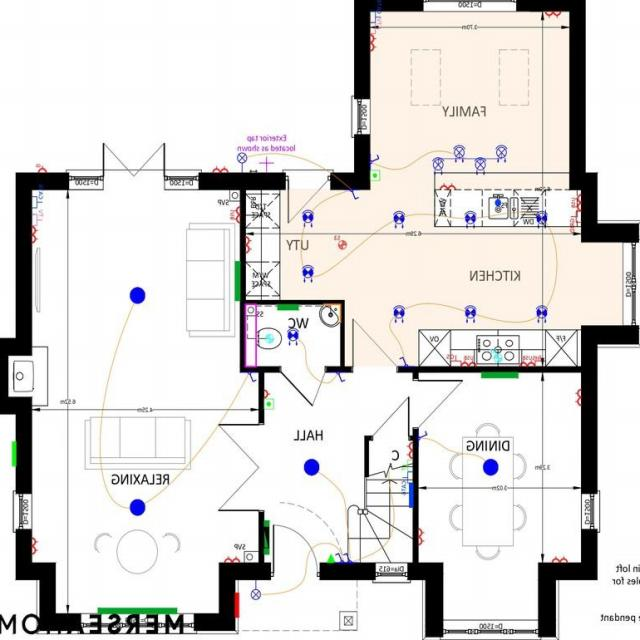BT Entry Point: (321, 548, 335, 562)
Cat 6 Data Socket: (28, 188, 53, 208), (368, 6, 388, 22), (398, 470, 412, 483)
Ceiling Mounted Continuous Extract Fan With Boost Mode Activated By Light Switch: (258, 325, 276, 354)
Ceiling Mounted Continuous Extract Fan With Local Boost Switch: (328, 233, 358, 254)
Co-Ax TV Socket: (28, 210, 48, 224), (368, 22, 388, 36)
Consumer Unit: (260, 522, 270, 552)
Double Socket: (562, 382, 580, 412), (545, 546, 576, 563), (204, 158, 235, 173), (217, 548, 245, 562), (244, 228, 255, 260), (366, 34, 382, 56), (434, 178, 460, 191), (30, 223, 41, 249), (540, 8, 567, 18), (30, 532, 40, 558), (400, 440, 413, 458), (416, 524, 424, 548)
Electric Meter Box: (232, 586, 244, 622)
External Wall Light: (235, 146, 251, 172), (250, 577, 265, 603)
Gas Meter Box: (5, 432, 14, 481)
Grid Switch: (564, 210, 580, 231)
Hob Switch: (533, 353, 542, 367)
Light Switch: (328, 368, 352, 385), (392, 352, 416, 367), (345, 186, 364, 203), (368, 150, 384, 169), (418, 427, 432, 445), (241, 372, 259, 384), (342, 545, 353, 564), (335, 549, 345, 563)
Low Energy Downlighter: (426, 142, 508, 174), (388, 200, 415, 234), (296, 259, 324, 290), (296, 203, 327, 230), (454, 296, 481, 326), (457, 206, 484, 235), (528, 299, 554, 327), (531, 207, 553, 237), (282, 322, 302, 350), (390, 300, 410, 326)
Low Energy Pendant Light: (298, 450, 330, 485), (479, 450, 501, 490), (124, 494, 156, 518), (124, 279, 150, 304)
Outside Socket: (32, 158, 51, 172)
Outside Tap: (257, 147, 276, 173)
Oven Switch: (445, 350, 462, 366), (461, 353, 479, 366)
Programmable Room Thermostat: (261, 396, 277, 414), (368, 169, 382, 186)
Radiator: (91, 601, 184, 613), (228, 255, 242, 308), (476, 368, 523, 382), (272, 300, 307, 314), (262, 518, 272, 563)
Recirculating Extractor Fan: (488, 347, 506, 362)
Single Socket: (261, 387, 278, 400)
Telephone Socket: (399, 456, 411, 472)
USB Double Socket: (227, 199, 240, 231), (569, 193, 581, 211), (518, 353, 533, 366)
Underfloor Heating Manifold: (398, 481, 412, 509)
Water Entry Position: (494, 194, 504, 207)
